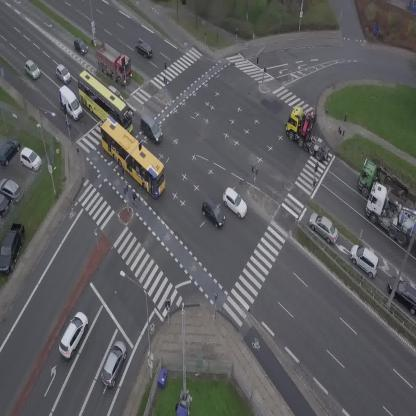bicycle: (131, 192, 137, 206)
bus: (89, 116, 177, 199), (66, 68, 143, 139)
car: (54, 310, 92, 360), (98, 338, 131, 389), (344, 241, 385, 279), (304, 209, 344, 247), (217, 186, 253, 219), (197, 196, 230, 230), (133, 112, 167, 145), (132, 38, 156, 60), (20, 58, 42, 82), (52, 63, 74, 85), (69, 36, 90, 58), (108, 84, 122, 96)
lorry: (277, 100, 346, 164), (86, 37, 141, 88), (51, 84, 89, 122)
